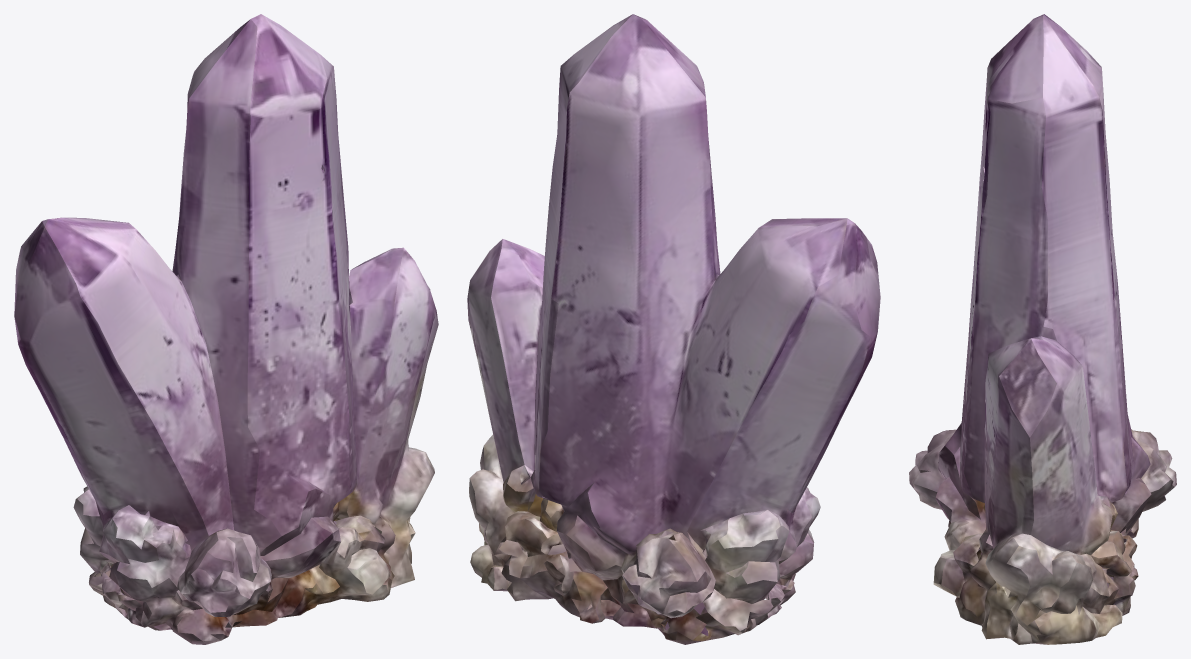
The picture shows the model from 3 angles, left to right: view 1: azimuth 30°, elevation 25°; view 2: azimuth 150°, elevation 25°; view 3: azimuth 270°, elevation 25°; orthographic projection. The views are drawn at different scales.
Visible parts, largest first — view 1: geometry_0; view 2: geometry_0; view 3: geometry_0.
Boxes of the visible parts, <box> form: geometry_0: <box>14,14,438,644</box>; geometry_0: <box>467,14,880,644</box>; geometry_0: <box>909,14,1176,644</box>.
Size of the model in its own units: 0.7467 by 1 by 0.4301.
1 material, 1 textured.
